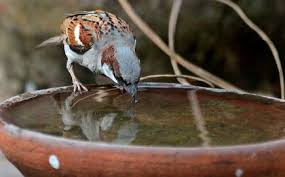hsparrow: (38, 4, 142, 97)
